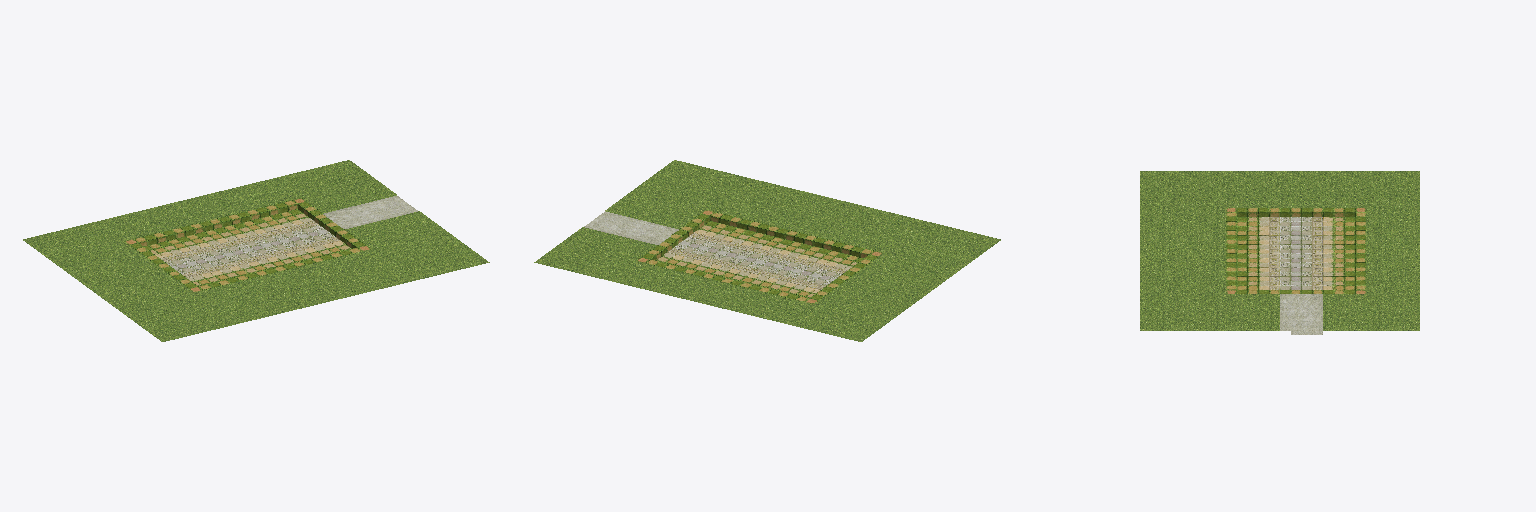
3 views of the same model, side by side, from view 1: azimuth 30°, elevation 25°; view 2: azimuth 150°, elevation 25°; view 3: azimuth 270°, elevation 25° (orthographic).
Parts seen in each view (by area): view 1: pb-MergedObject-96410; view 2: pb-MergedObject-96410; view 3: pb-MergedObject-96410.
Boxes of the visible parts, <box> form: pb-MergedObject-96410: <box>23,160,489,341</box>; pb-MergedObject-96410: <box>534,160,1000,341</box>; pb-MergedObject-96410: <box>1140,171,1419,334</box>.
Size of the model in its own units: 35 by 1 by 26.
Materials: 4 (4 with a texture image).